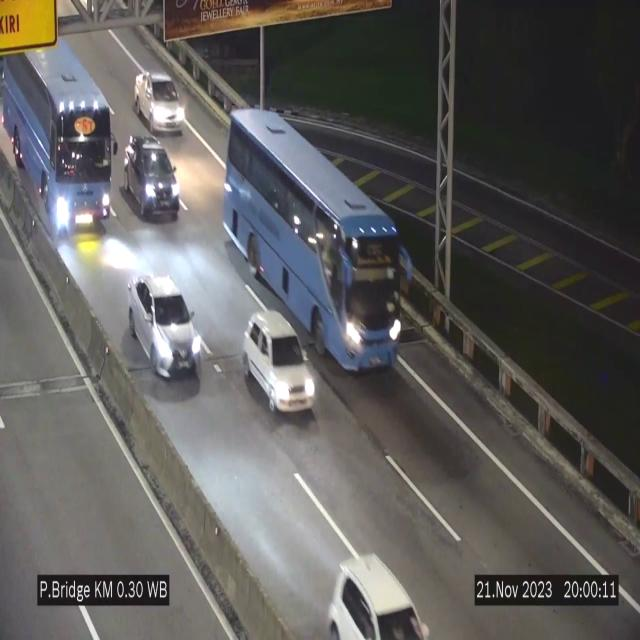Bus: (220, 102, 414, 374), (0, 39, 120, 237)
Car: (320, 544, 436, 640), (128, 276, 202, 381), (243, 311, 317, 414), (123, 135, 179, 218), (134, 71, 185, 133)
